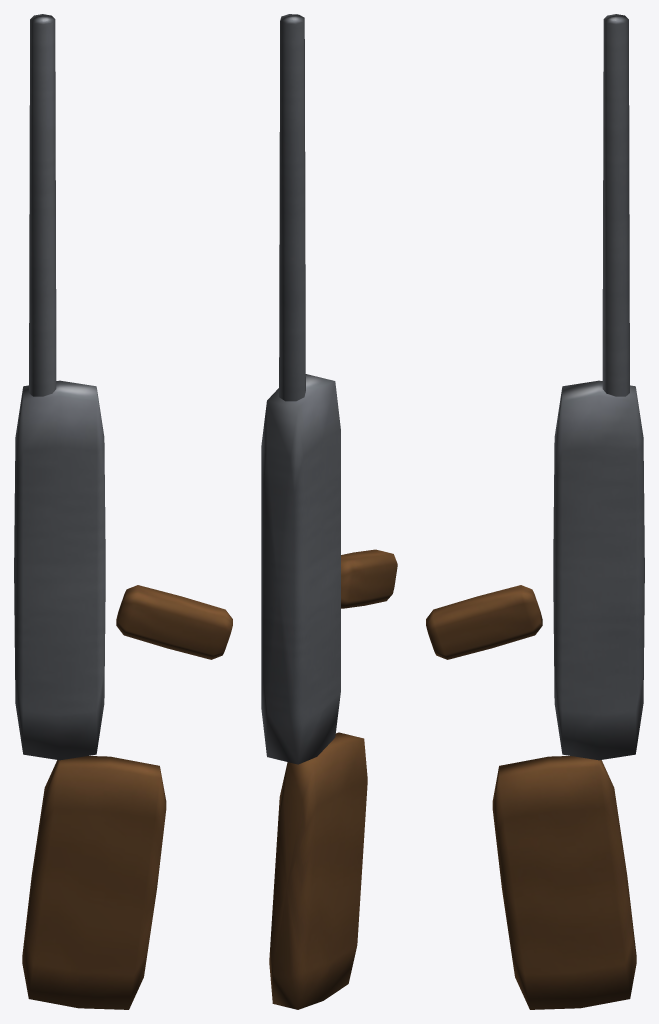
File: carabine.glb
3 views of the same model, side by side, from view 1: azimuth 90°, elevation 25°; view 2: azimuth 150°, elevation 25°; view 3: azimuth 270°, elevation 25° (orthographic).
Parts seen in each view (by area): view 1: carabine; view 2: carabine; view 3: carabine.
Part boxes in pixels (bbox=[...]): carabine: bbox=[14, 14, 232, 1009]; carabine: bbox=[261, 14, 397, 1009]; carabine: bbox=[426, 14, 644, 1009].
Size of the model in its own units: 0.0438 by 0.9468 by 0.1908.
Materials: 1 (1 with a texture image).
